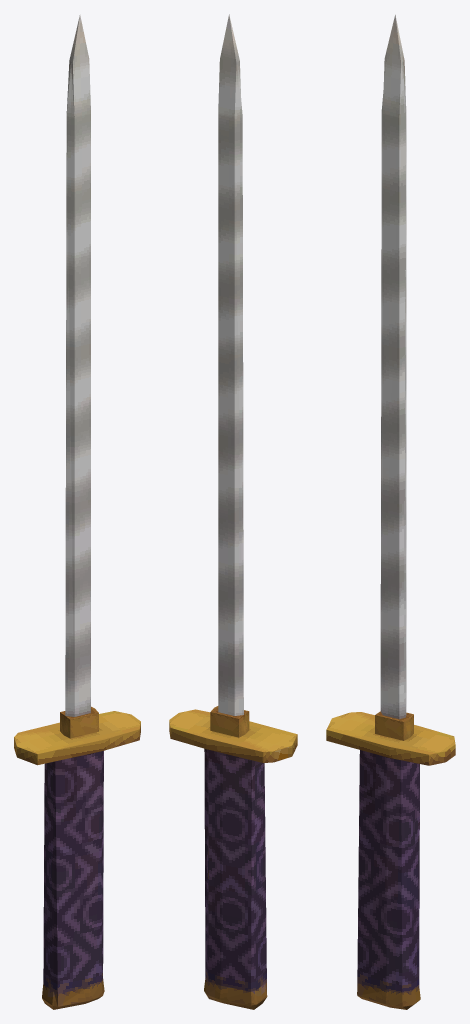
The model's file is item_katana_medium.glb.
The picture shows the model from 3 angles, left to right: view 1: azimuth 30°, elevation 25°; view 2: azimuth 150°, elevation 25°; view 3: azimuth 330°, elevation 25°; orthographic projection.
Parts seen in each view (by area): view 1: Katana_B; view 2: Katana_B; view 3: Katana_B.
Boxes of the visible parts, x1,y1,x2,y2 form: Katana_B: (14,14,140,1009); Katana_B: (169,14,297,1009); Katana_B: (326,14,455,1009).
Bounding box in the file's own units: 0.1543 × 1.22 × 0.0644.
1 material, 1 textured.
